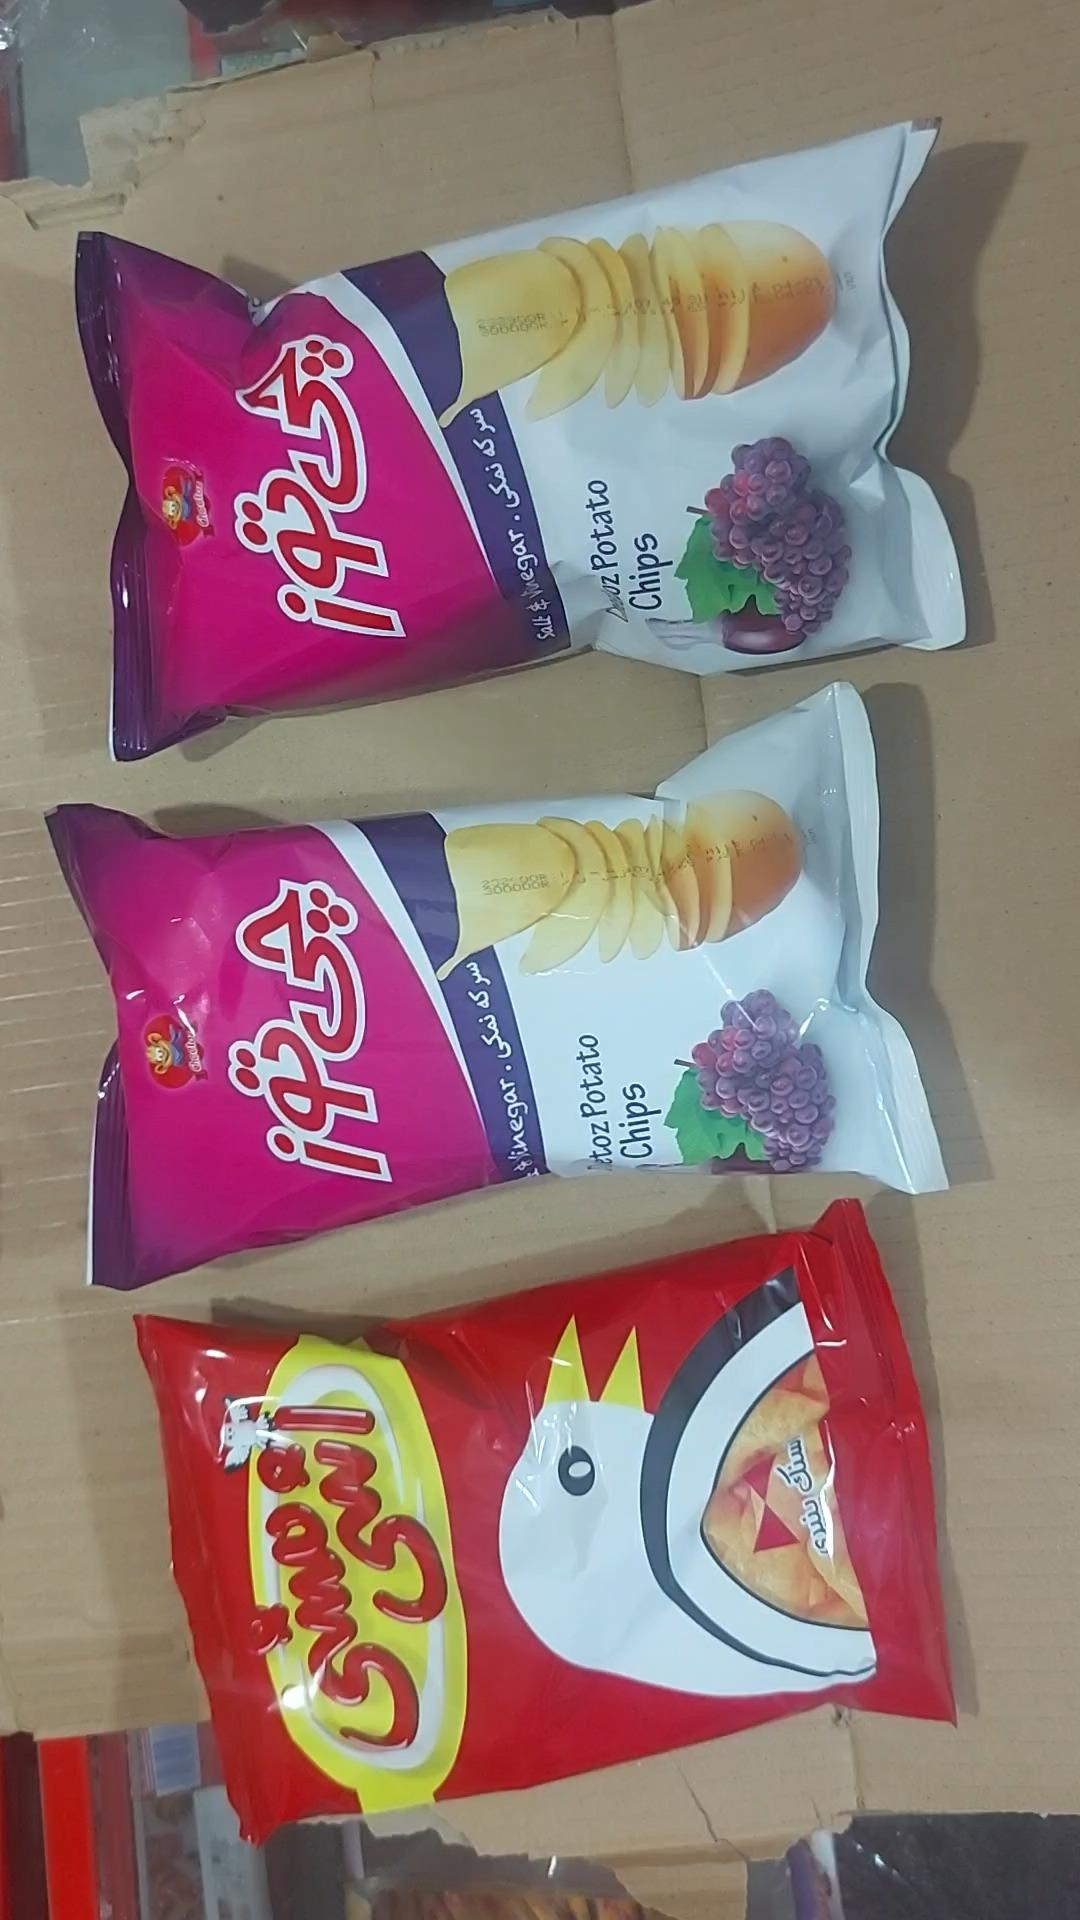Ashi Mashi snacks: (132, 1201, 959, 1849)
Cheetoz vinegar chips: (73, 113, 972, 765), (46, 684, 952, 1294)
